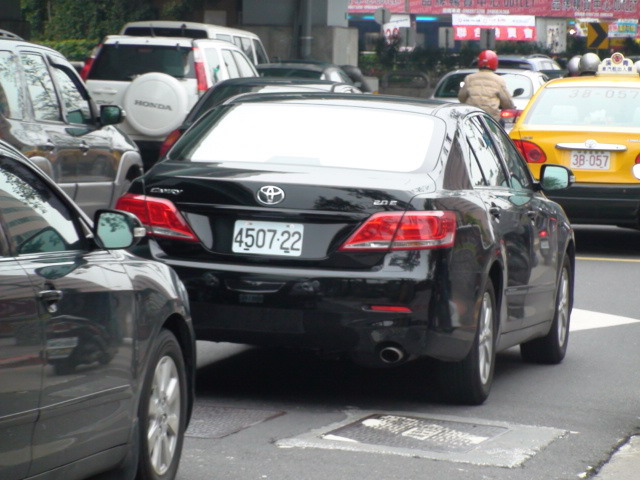plate: (230, 217, 306, 262), (568, 148, 613, 173)
